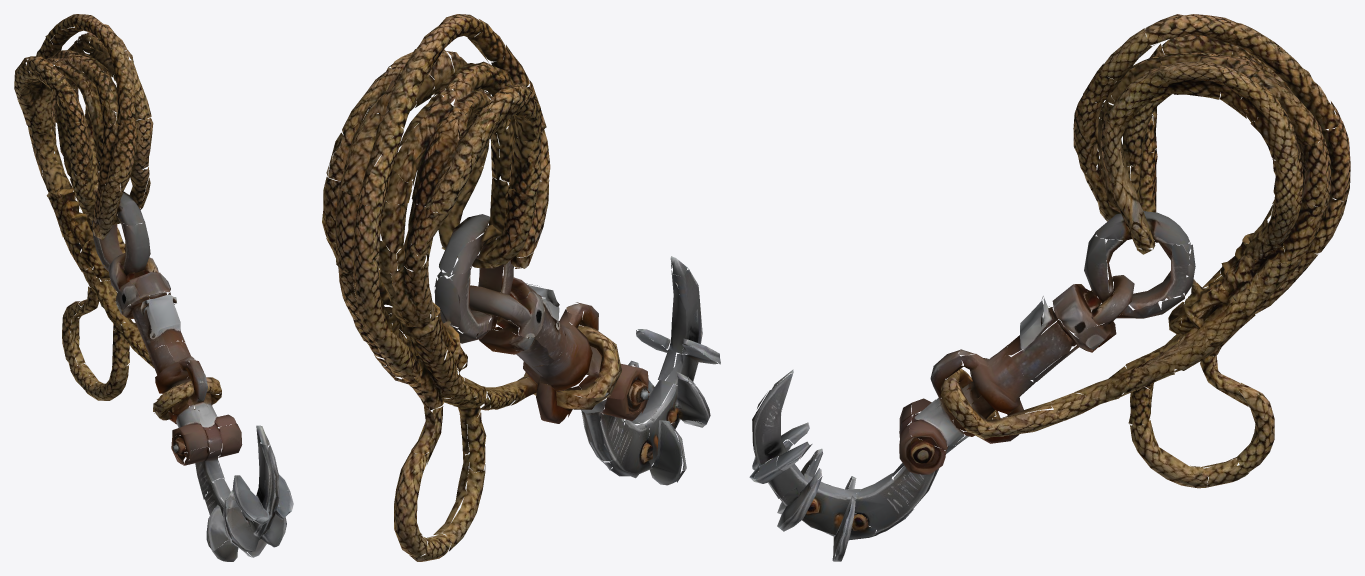
The model's file is throwing_hook.glb.
3 renders of one model, left to right at view 1: azimuth 30°, elevation 25°; view 2: azimuth 150°, elevation 25°; view 3: azimuth 270°, elevation 25°, orthographic. The views are drawn at different scales.
Visible parts, largest first — view 1: tripo_node_430b179e-3cb4-487f-898d-87867a922b0a; view 2: tripo_node_430b179e-3cb4-487f-898d-87867a922b0a; view 3: tripo_node_430b179e-3cb4-487f-898d-87867a922b0a.
Part boxes in pixels (x1,y1,x2,y2): tripo_node_430b179e-3cb4-487f-898d-87867a922b0a: [14, 14, 293, 561]; tripo_node_430b179e-3cb4-487f-898d-87867a922b0a: [322, 14, 720, 561]; tripo_node_430b179e-3cb4-487f-898d-87867a922b0a: [749, 14, 1350, 561].
Bounding box in the file's own units: 0.2494 × 0.9885 × 1.
1 material, 1 textured.
